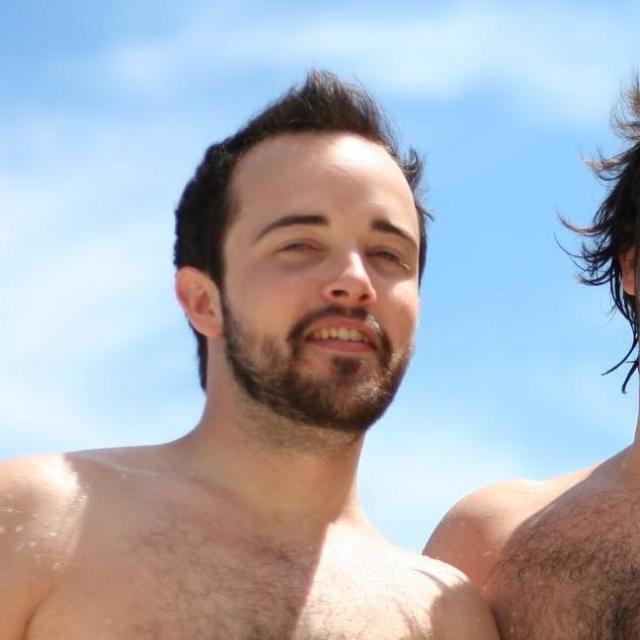no-glass: (264, 244, 419, 265)
